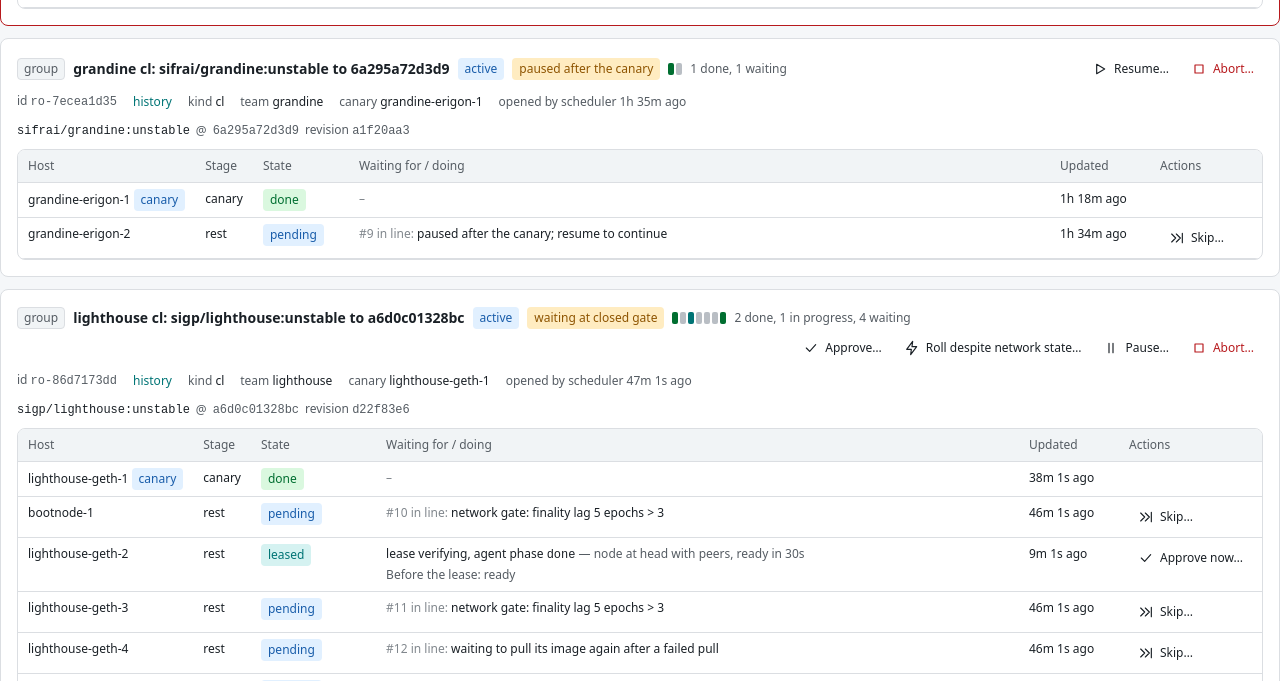
it: RolloutsTab, decisions of a person › lets a rollout that waits at the closed gate pass it, and badges it
(page scrolled)
Click the button "Roll despite network state…". click: (993, 348)
box: [895,334,1090,362]
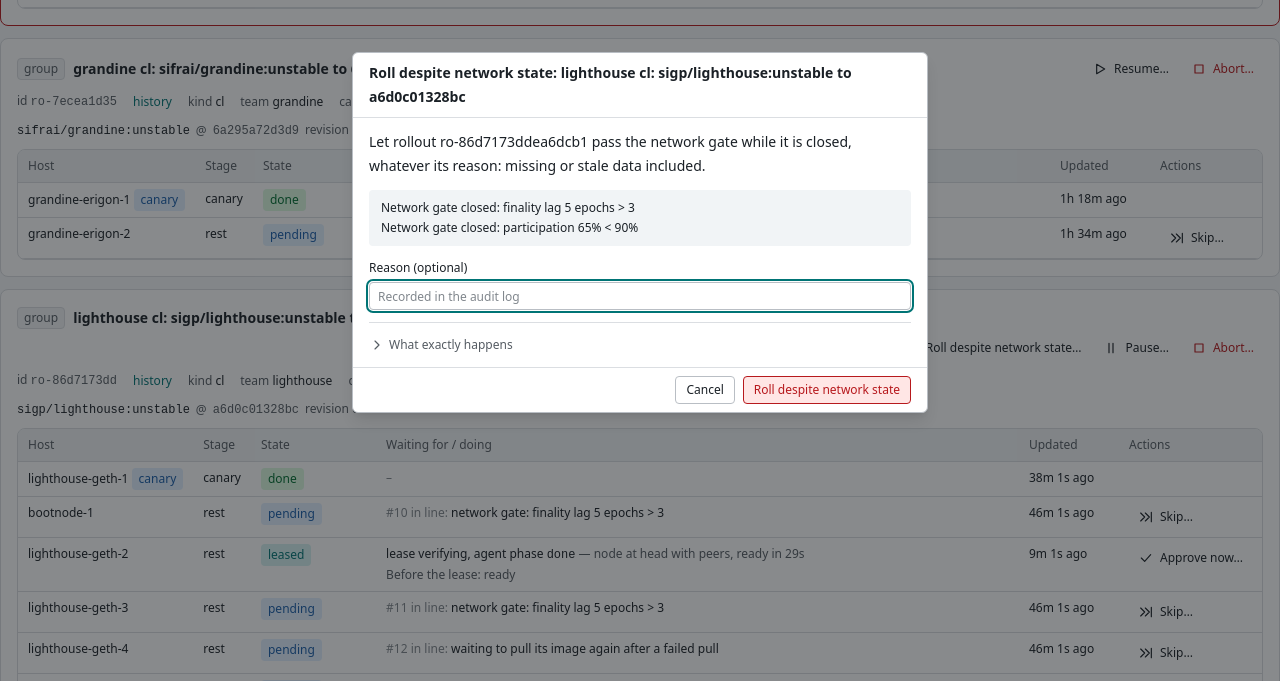
Result: the list named "Current state" shows "Network gate closed:" at [381,199,635,216]
Click the button "Roll despite network state". click: (827, 390)
box: [743,376,911,404]
(page scrolled)
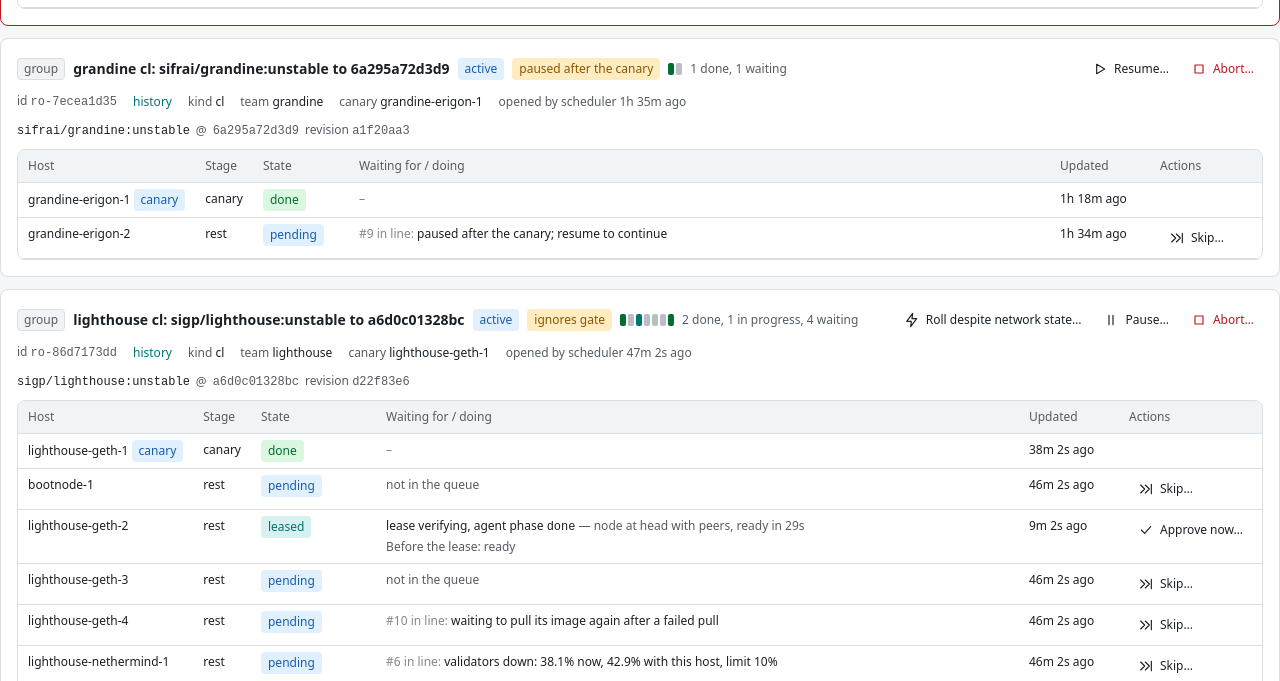
Result: the text "ignores gate" is shown at [527,309,612,331]
Click the button "Roll despite network state…". click: (993, 320)
box: [895,306,1090,334]
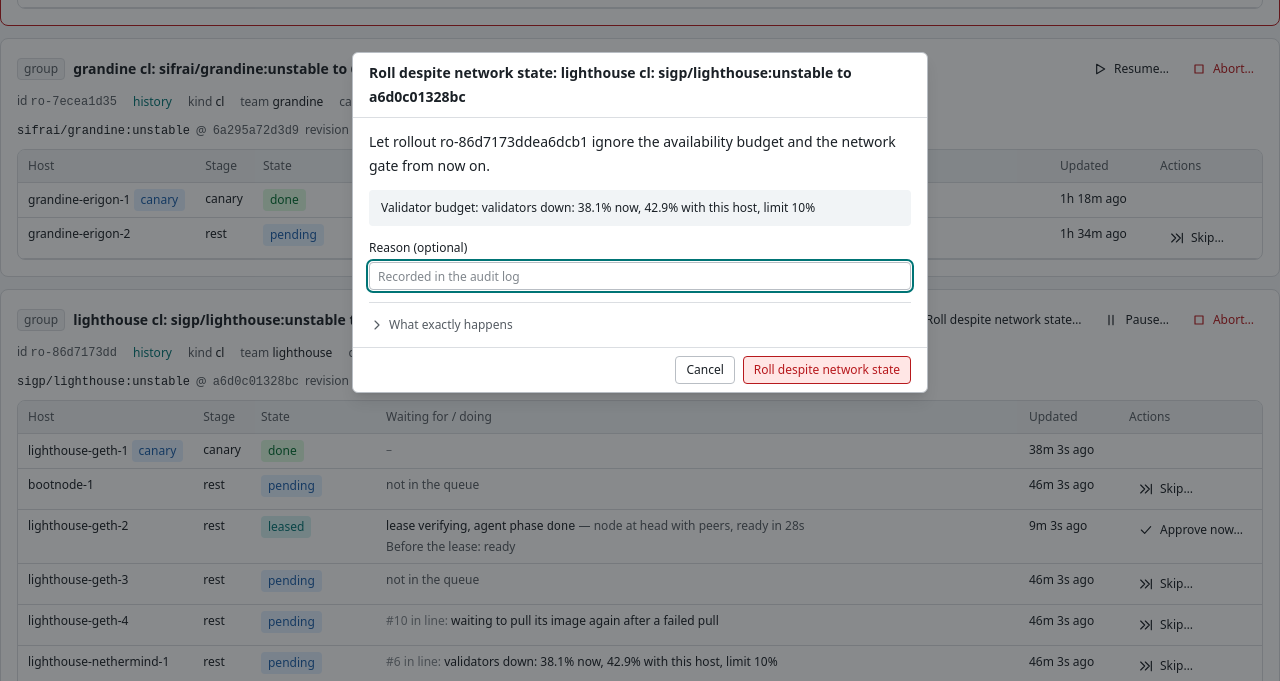
Result: the list named "Current state" shows "Validator budget:" at [381,199,815,216]
